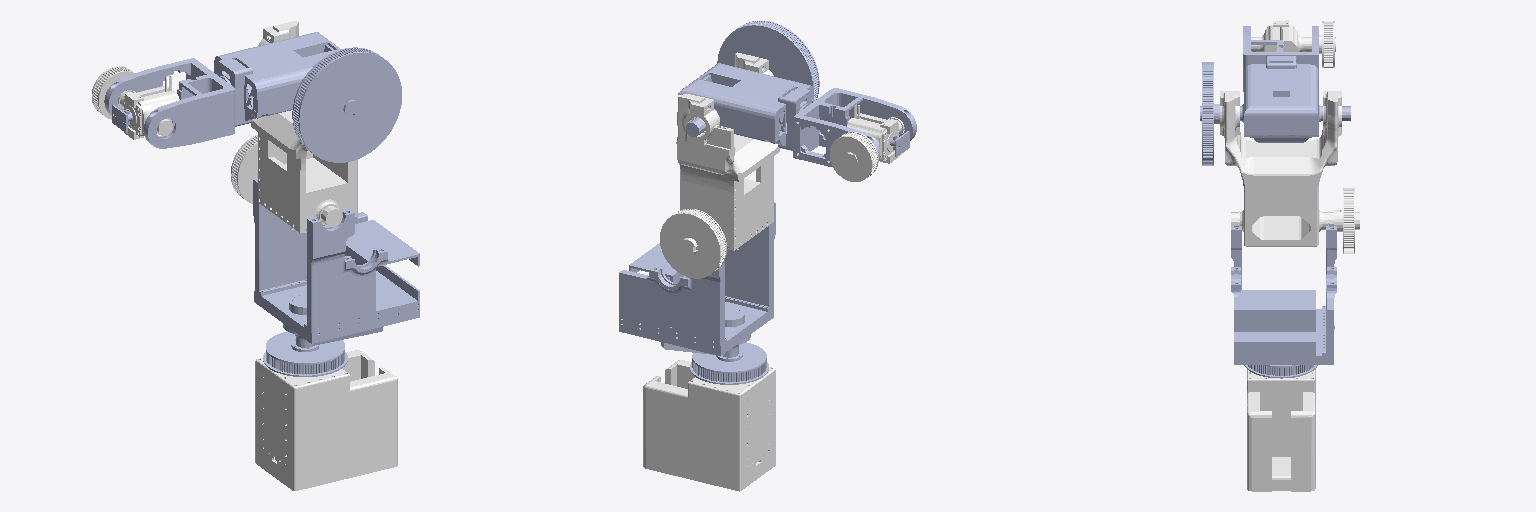
robot.urdf — ra6a:
<?xml version="1.0" encoding="utf-8"?>
<!-- This URDF was automatically created by SolidWorks to URDF Exporter! Originally created by Stephen Brawner (brawner@gmail.com) 
     Commit Version: 1.6.0-4-g7f85cfe  Build Version: 1.6.7995.38578
     For more information, please see http://wiki.ros.org/sw_urdf_exporter -->
<robot
  name="ra6a">
  <link
    name="base_link">
    <inertial>
      <origin
        xyz="0.039204 -6.6862E-07 -0.010842"
        rpy="0 0 0" />
      <mass
        value="2.915" />
      <inertia
        ixx="0.01436"
        ixy="-9.7839E-06"
        ixz="8.8797E-08"
        iyy="0.016743"
        iyz="-8.9882E-08"
        izz="0.017881" />
    </inertial>
    <visual>
      <origin
        xyz="0 0 0"
        rpy="0 0 0" />
      <geometry>
        <mesh
          filename="package://ra6a/meshes/base_link.stl" 
          scale="1.0 1.0 1.0"/>
      </geometry>
      <material
        name="">
        <color
          rgba="1 1 1 1" />
      </material>
    </visual>
    <collision>
      <origin
        xyz="0 0 0"
        rpy="0 0 0" />
      <geometry>
        <mesh
          filename="package://ra6a/meshes/base_link.stl" 
          scale="1.0 1.0 1.0"/>
      </geometry>
    </collision>
  </link>
  <link
    name="l1">
    <inertial>
      <origin
        xyz="-0.018341 -0.038699 -0.09919"
        rpy="0 0 0" />
      <mass
        value="2.4989" />
      <inertia
        ixx="0.013037"
        ixy="-0.0027249"
        ixz="0.001464"
        iyy="0.010527"
        iyz="0.0022131"
        izz="0.010986" />
    </inertial>
    <visual>
      <origin
        xyz="0 0 0"
        rpy="0 0 0" />
      <geometry>
        <mesh
          filename="package://ra6a/meshes/l1.stl" 
          scale="1.0 1.0 1.0"/>
      </geometry>
      <material
        name="">
        <color
          rgba="0.79216 0.81961 0.93333 1" />
      </material>
    </visual>
    <collision>
      <origin
        xyz="0 0 0"
        rpy="0 0 0" />
      <geometry>
        <mesh
          filename="package://ra6a/meshes/l1.stl"
          scale="1.0 1.0 1.0" />
      </geometry>
    </collision>
  </link>
  <joint
    name="j1"
    type="revolute">
    <origin
      xyz="0 0 0.1369"
      rpy="3.1416 0 4.473940413" />
    <parent
      link="base_link" />
    <child
      link="l1" />
    <axis
      xyz="0 0 1" />
    <limit
      lower="-3.0979"
      upper="3.0979"
      effort="55.5"
      velocity="1.05" />
  </joint>
  <link
    name="l2">
    <inertial>
      <origin
        xyz="-0.023045 -0.0039604 -0.089257"
        rpy="0 0 0" />
      <mass
        value="3.5609" />
      <inertia
        ixx="0.021496"
        ixy="0.00028586"
        ixz="0.00088645"
        iyy="0.031862"
        iyz="0.0004388"
        izz="0.017196" />
    </inertial>
    <visual>
      <origin
        xyz="0 0 0"
        rpy="0 0 0" />
      <geometry>
        <mesh
          filename="package://ra6a/meshes/l2.stl" 
          scale="1.0 1.0 1.0"/>
      </geometry>
      <material
        name="">
        <color
          rgba="1 1 1 1" />
      </material>
    </visual>
    <collision>
      <origin
        xyz="0 0 0"
        rpy="0 0 0" />
      <geometry>
        <mesh
          filename="package://ra6a/meshes/l2.stl" 
          scale="1.0 1.0 1.0"/>
      </geometry>
    </collision>
  </link>
  <joint
    name="j2"
    type="revolute">
    <origin
      xyz="0 0 -0.2922"
      rpy="0 0 -0.23845" />
    <parent
      link="l1" />
    <child
      link="l2" />
    <axis
      xyz="1 0 0" />
    <limit
      lower="-1.30899694"
      upper="1.69296937"
      effort="110"
      velocity="1.05" />
  </joint>
  <link
    name="l3">
    <inertial>
      <origin
        xyz="-0.049486 -0.00089697 0.024"
        rpy="0 0 0" />
      <mass
        value="3.1038" />
      <inertia
        ixx="0.013328"
        ixy="4.3048E-05"
        ixz="-8.438E-05"
        iyy="0.016047"
        iyz="0.00018895"
        izz="0.0094678" />
    </inertial>
    <visual>
      <origin
        xyz="0 0 0"
        rpy="0 0 0" />
      <geometry>
        <mesh
          filename="package://ra6a/meshes/l3.stl" 
          scale="1.0 1.0 1.0"/>
      </geometry>
      <material
        name="">
        <color
          rgba="0.79608 0.82353 0.93725 1" />
      </material>
    </visual>
    <collision>
      <origin
        xyz="0 0 0"
        rpy="0 0 0" />
      <geometry>
        <mesh
          filename="package://ra6a/meshes/l3.stl" 
          scale="1.0 1.0 1.0"/>
      </geometry>
    </collision>
  </link>
  <joint
    name="j3"
    type="revolute">
    <origin
      xyz="0 0 -0.23789"
      rpy="1.5708 0 -3.1416" />
    <parent
      link="l2" />
    <child
      link="l3" />
    <axis
      xyz="1 0 0" />
    <limit
      lower="-0.4363323"
      upper="3.577925"
      effort="65"
      velocity="1.05" />
  </joint>
  <link
    name="l4">
    <inertial>
      <origin
        xyz="-0.00644648015582011 0.00019408303741475 0.0542634295034519"
        rpy="0 0 0" />
      <mass
        value="0.72283" />
      <inertia
        ixx="0.0016231"
        ixy="-3.7592E-06"
        ixz="-1.0915E-05"
        iyy="0.0031796"
        iyz="-1.091E-06"
        izz="0.0024777" />
    </inertial>
    <visual>
      <origin
        xyz="0 0 0"
        rpy="0 0 0" />
      <geometry>
        <mesh
          filename="package://ra6a/meshes/l4.stl" 
          scale="1.0 1.0 1.0"/>
      </geometry>
      <material
        name="">
        <color
          rgba="0.79608 0.82353 0.93725 1" />
      </material>
    </visual>
    <collision>
      <origin
        xyz="0 0 0"
        rpy="0 0 0" />
      <geometry>
        <mesh
          filename="package://ra6a/meshes/l4.stl" 
          scale="1.0 1.0 1.0"/>
      </geometry>
    </collision>
  </link>
  <joint
    name="j4"
    type="revolute">
    <origin
      xyz="5.5E-05 -0.0016053 0.1825"
      rpy="0 0 0" />
    <parent
      link="l3" />
    <child
      link="l4" />
    <axis
      xyz="0 0 1" />
    <limit
      lower="-3.0979"
      upper="3.0979"
      effort="20"
      velocity="1.05" />
  </joint>
  <link
    name="l5">
    <inertial>
      <origin
        xyz="0.033993520449142 0.000239344637752714 -0.0069745494687703"
        rpy="0 0 0" />
      <mass
        value="0.59888" />
      <inertia
        ixx="0.00051226"
        ixy="5.4361E-07"
        ixz="-2.0014E-05"
        iyy="0.00074482"
        iyz="-1.971E-07"
        izz="0.00065835" />
    </inertial>
    <visual>
      <origin
        xyz="0 0 0"
        rpy="0 0 0" />
      <geometry>
        <mesh
          filename="package://ra6a/meshes/l5.stl" 
          scale="1.0 1.0 1.0"/>
      </geometry>
      <material
        name="">
        <color
          rgba="1 1 1 1" />
      </material>
    </visual>
    <collision>
      <origin
        xyz="0 0 0"
        rpy="0 0 0" />
      <geometry>
        <mesh
          filename="package://ra6a/meshes/l5.stl" 
          scale="1.0 1.0 1.0"/>
      </geometry>
    </collision>
  </link>
  <joint
    name="j5"
    type="revolute">
    <origin
      xyz="0 0 0.1435"
      rpy="0 0 0" />
    <parent
      link="l4" />
    <child
      link="l5" />
    <axis
      xyz="1 0 0" />
    <limit
      lower="-1.5708"
      upper="1.5708"
      effort="7"
      velocity="1.05" />
  </joint>
  <link
    name="end_effector">
    <inertial>
      <origin
        xyz="1.08576461155252E-08 3.29977418729588E-06 -0.00208152036490139"
        rpy="0 0 0" />
      <mass
        value="0.010728" />
      <inertia
        ixx="1.2754E-06"
        ixy="-6.705E-13"
        ixz="-1.0633E-12"
        iyy="1.9358E-06"
        iyz="-1.5271E-10"
        izz="2.32E-06" />
    </inertial>
    <visual>
      <origin
        xyz="0 0 0"
        rpy="0 0 0" />
      <geometry>
        <mesh
          filename="package://ra6a/meshes/end_effector.stl" 
          scale="1.0 1.0 1.0"/>
      </geometry>
      <material
        name="">
        <color
          rgba="0.79216 0.81961 0.93333 1" />
      </material>
    </visual>
    <collision>
      <origin
        xyz="0 0 0"
        rpy="0 0 0" />
      <geometry>
        <mesh
          filename="package://ra6a/meshes/end_effector.stl" 
          scale="1.0 1.0 1.0"/>
      </geometry>
    </collision>
  </link>
  <joint
    name="j6"
    type="revolute">
    <origin
      xyz="0 0 0.048"
      rpy="0 0 0" />
    <parent
      link="l5" />
    <child
      link="end_effector" />
    <axis
      xyz="0 0 1" />
    <limit
      lower="-3.0979"
      upper="3.0979"
      effort="1.8"
      velocity="1.05" />
  </joint>

  <!-- ========================================== -->
  <!-- ROS2_CONTROL CONFIGURATION                 -->
  <!-- Updated to support fake and real modes     -->
  <!-- ========================================== -->
  <ros2_control name="ra6a_system" type="system">
    <hardware>
      <plugin>ra6a_hardware/Ra6aSystem</plugin>
      
      <!-- Hardware mode: "fake" for simulation, "real" for STM32 -->
      <param name="mode">real</param>
      
      <!-- Serial port settings (only used when mode="real") -->
      <param name="serial_port">/dev/ttyACM0</param>
      <param name="baud_rate">115200</param>
    </hardware>

    <!-- Joint 1 -->
    <joint name="j1">
<command_interface name="position"/>

<state_interface name="position"/>
<state_interface name="velocity"/>

    </joint>

    <!-- Joint 2 -->
    <joint name="j2">
 <command_interface name="position"/>


<state_interface name="position"/>
<state_interface name="velocity"/>

    </joint>

    <!-- Joint 3 -->
    <joint name="j3">
 <command_interface name="position"/>


<state_interface name="position"/>
<state_interface name="velocity"/>

    </joint>

    <!-- Joint 4 -->
    <joint name="j4">
 <command_interface name="position"/>

<state_interface name="position"/>
<state_interface name="velocity"/>

    </joint>

    <!-- Joint 5 -->
    <joint name="j5">
   <command_interface name="position"/>

<state_interface name="position"/>
<state_interface name="velocity"/>

    </joint>

    <!-- Joint 6 -->
    <joint name="j6">
      <command_interface name="position"/>

<state_interface name="position"/>
<state_interface name="velocity"/>

    </joint>
    
  </ros2_control>

</robot>

--- What the picture shows (computed from the rendered views, not written in the file) ---
Views: 3 orthographic renders of the robot side by side, from view 1: azimuth 30°, elevation 25°; view 2: azimuth 150°, elevation 25°; view 3: azimuth 270°, elevation 25°.
Model ra6a with 7 links and 6 joints (6 revolute), rooted at base_link, posed all joints at 0.
Links seen in each view (by area): view 1: l1, l3, base_link, l2, l4, l5; view 2: l1, l2, base_link, l3, l4, l5; view 3: l2, l1, base_link, l3, l5, l4.
Link boxes in pixels (box(x1,y1,x2,y2)): l1: box(253, 178, 419, 376); l3: box(214, 32, 401, 162); base_link: box(255, 350, 397, 490); l2: box(231, 21, 357, 232); l4: box(104, 58, 234, 148); l5: box(92, 66, 179, 139); l1: box(619, 202, 775, 384); l2: box(660, 52, 780, 278); base_link: box(643, 360, 775, 491); l3: box(678, 21, 819, 150); l4: box(793, 88, 916, 166); l5: box(830, 104, 904, 181); l2: box(1220, 91, 1359, 253); l1: box(1231, 212, 1336, 378); base_link: box(1247, 369, 1315, 491); l3: box(1200, 56, 1350, 165); l5: box(1251, 20, 1335, 67); l4: box(1243, 26, 1318, 91).
Bounding box of the posed robot: 0.5566 × 0.3233 × 0.871 m (x, y, z).
7 mesh visuals loaded from 7 distinct referenced files (7 binary STL).
